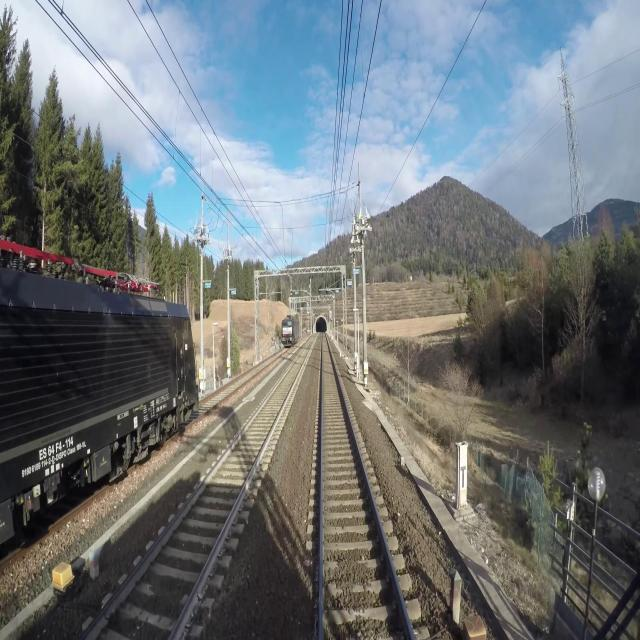rail-track: (84, 340, 312, 639), (323, 335, 409, 639), (199, 366, 261, 411)
